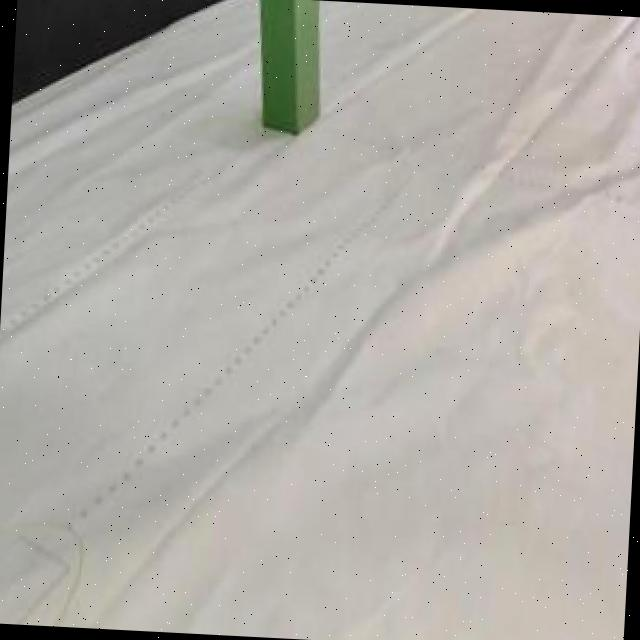greenbox: (249, 0, 326, 131)
